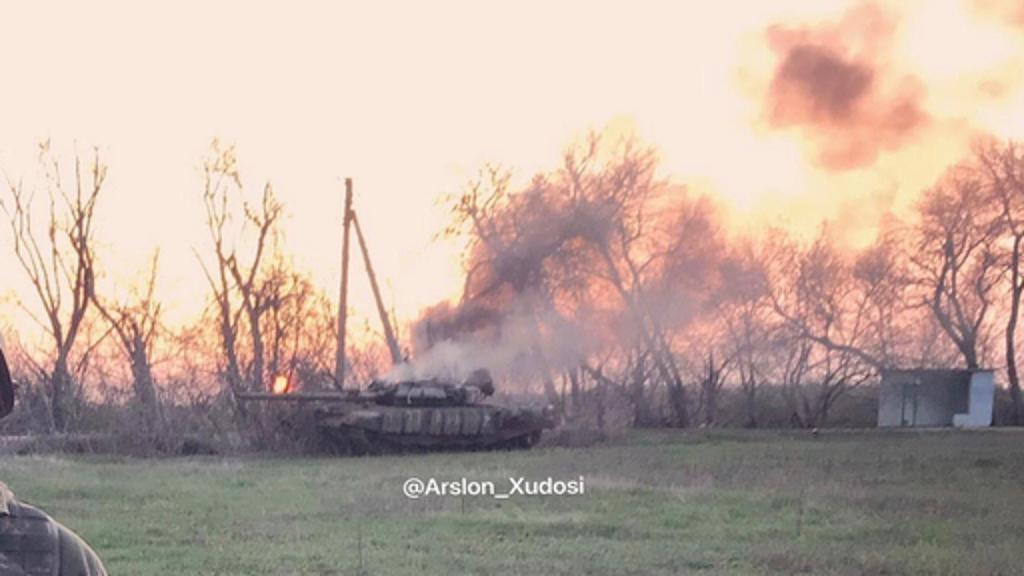TANK: (220, 362, 562, 464)
